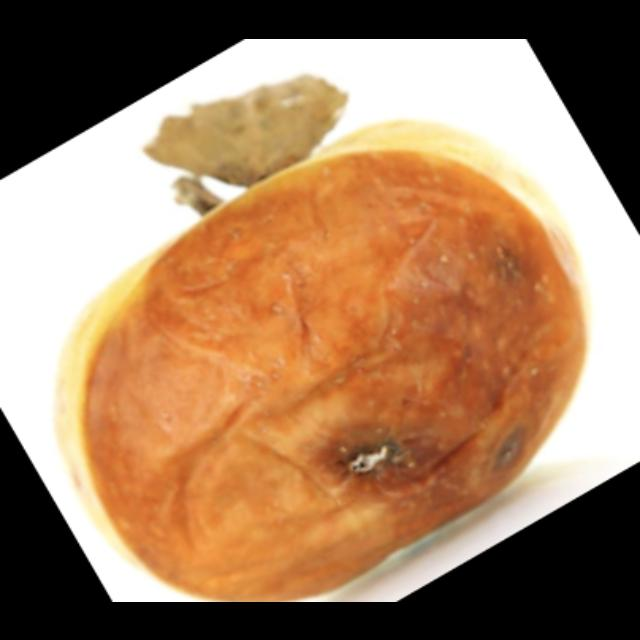Apel Tidak Segar: (47, 119, 590, 602)
